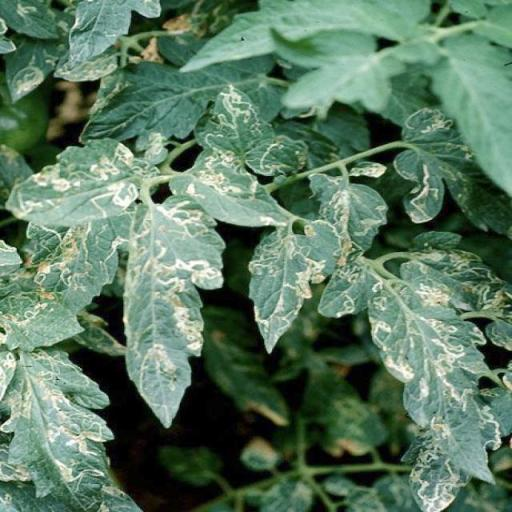disease_tomato: (366, 279, 498, 485), (122, 194, 226, 426), (0, 346, 114, 511), (247, 220, 342, 354), (0, 137, 141, 226), (169, 146, 289, 226)
